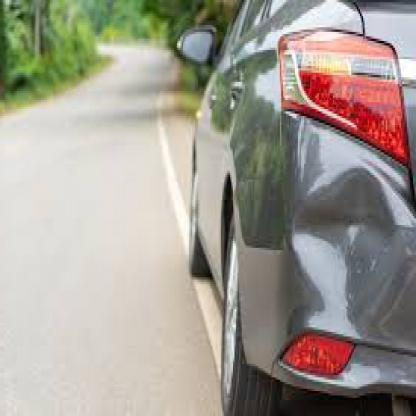dent: (290, 166, 398, 320)
